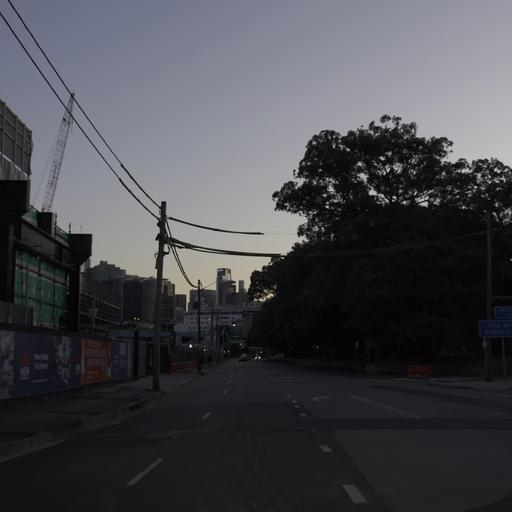Street light: (150, 200, 265, 391), (195, 273, 235, 373)
